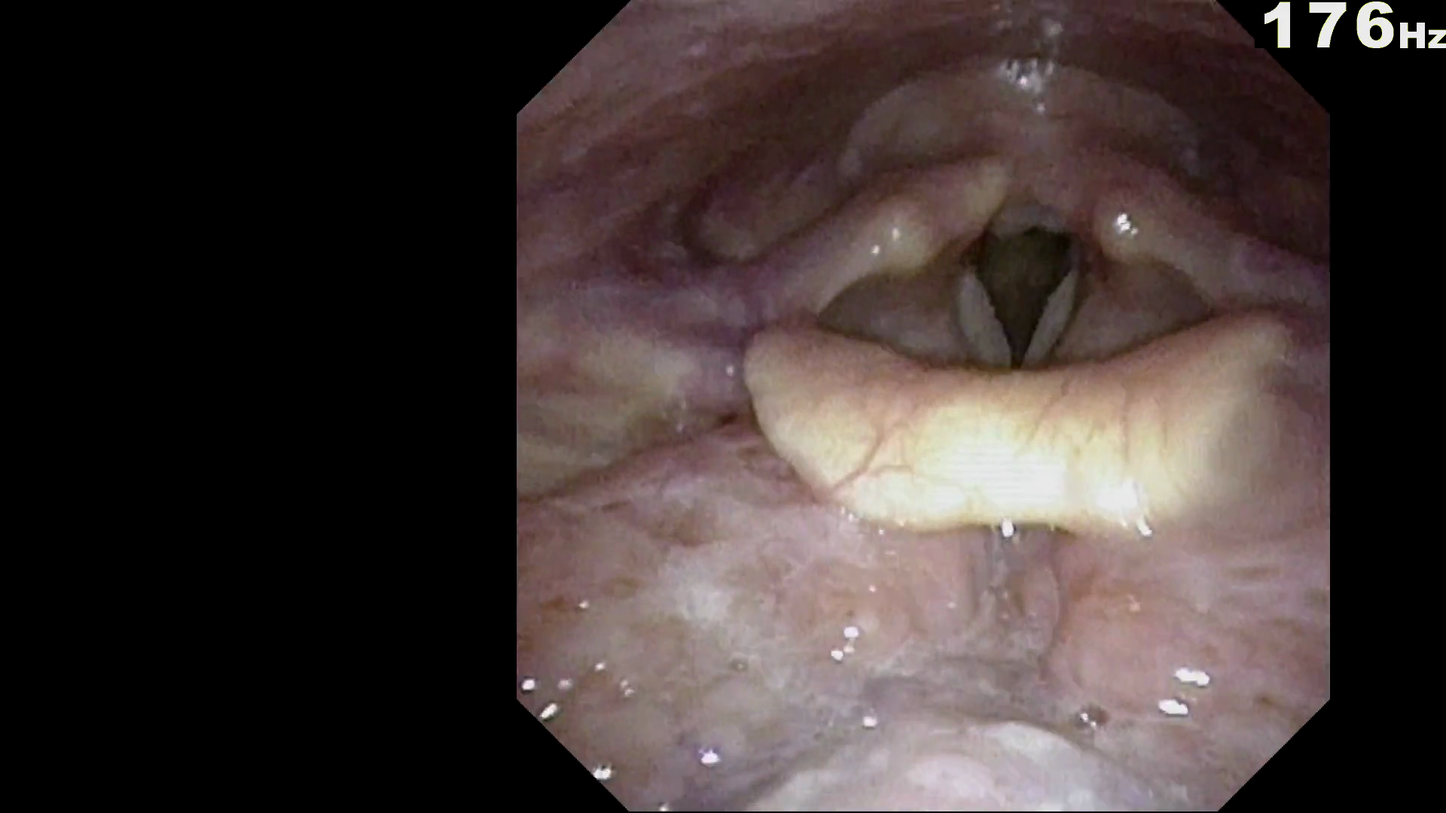epiglottis: (724, 251, 1319, 536)
trachea: (948, 216, 1095, 370)
